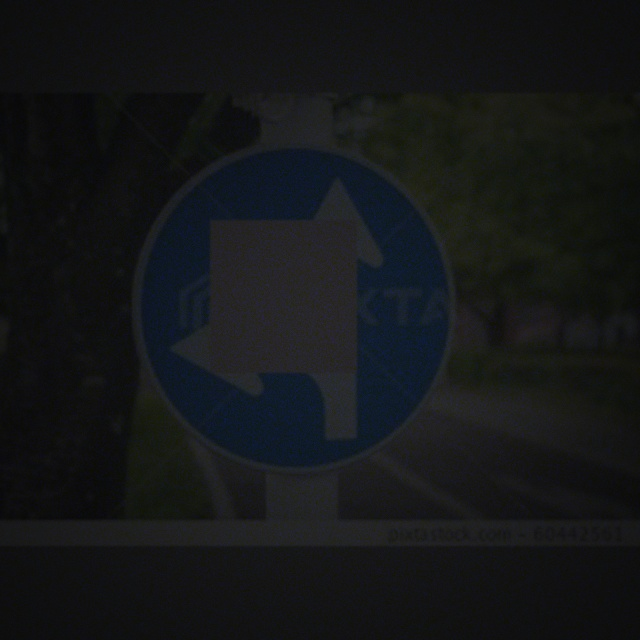Compulsory_Ahead_or_Turn_Left: (133, 152, 459, 460)
